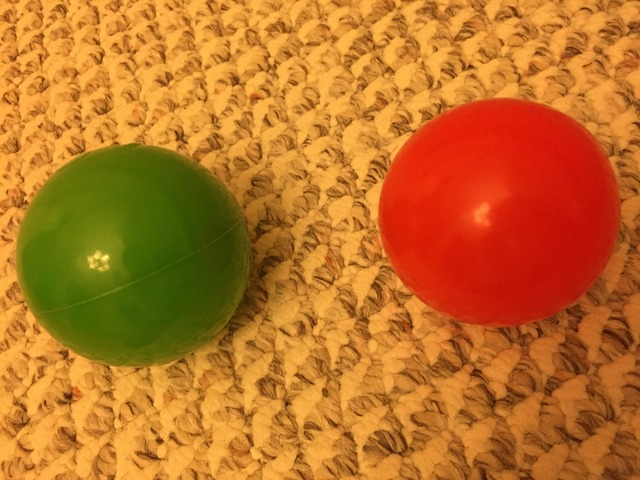Ball: (375, 98, 614, 330)
